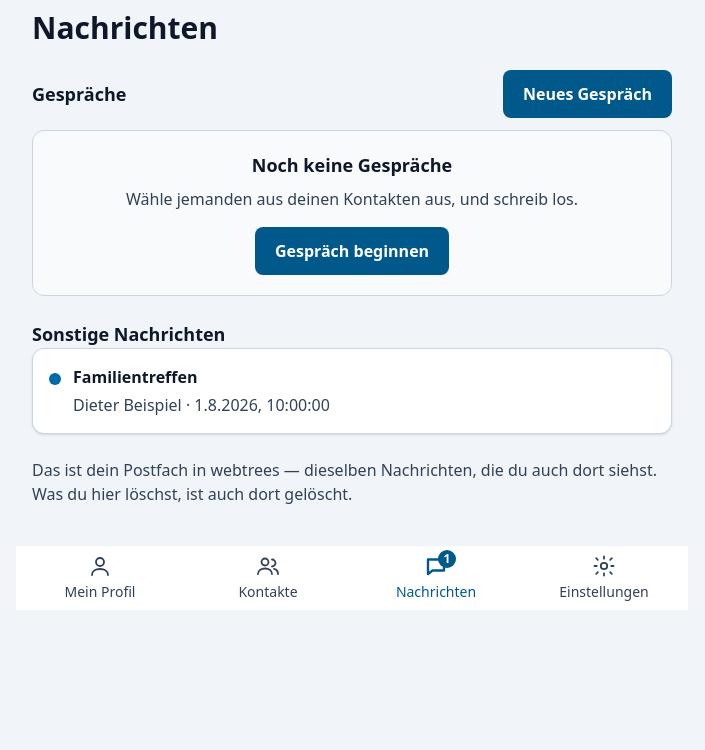
Test: the inbox › marks a message read by opening it
Click the button "Familientreffen Dieter Beispiel · 1.8.2026, 10:00:00": point(135, 377) [49,365,655,417]
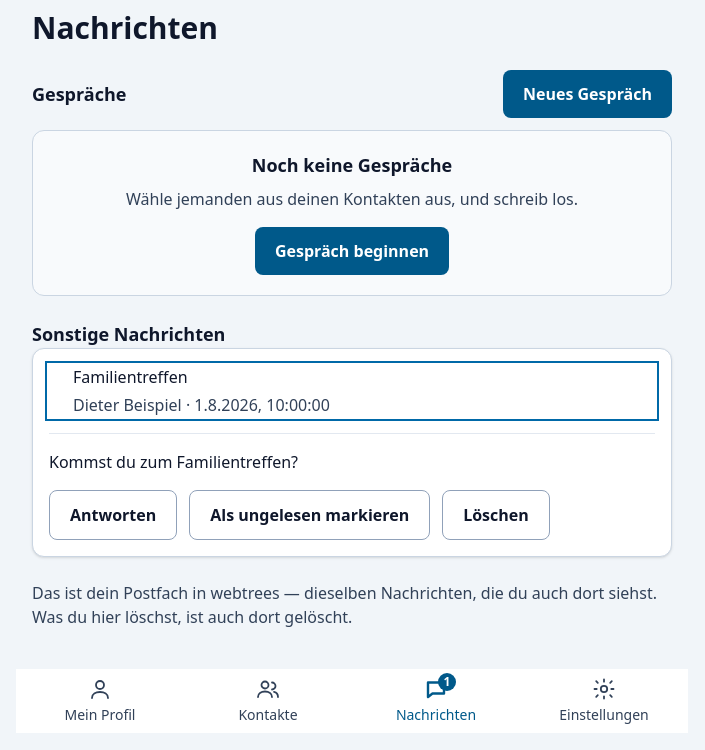
Now the text "Kommst du zum Familientreffen?" is shown, box [49,433,655,474]
